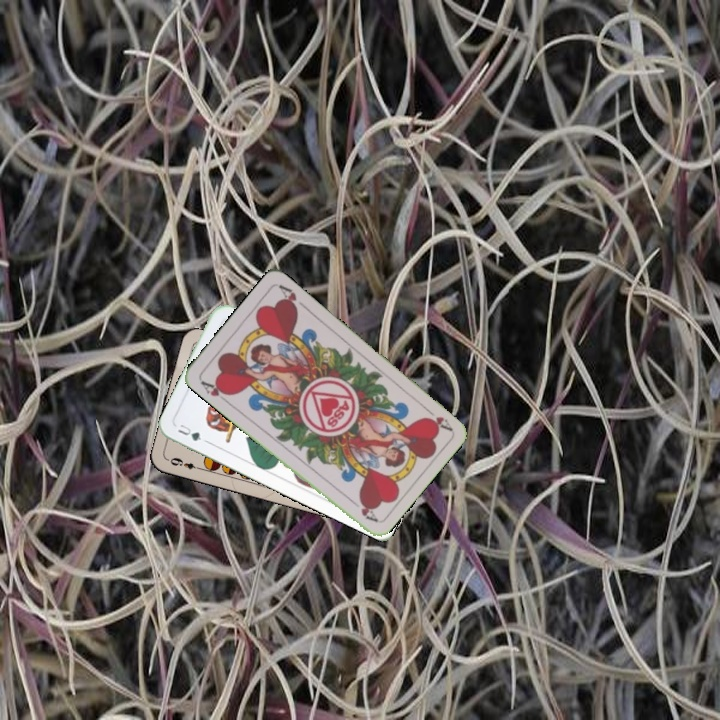E9: (164, 453, 204, 473)
GU: (174, 419, 204, 444)
HA: (196, 375, 234, 406), (420, 402, 454, 433)
